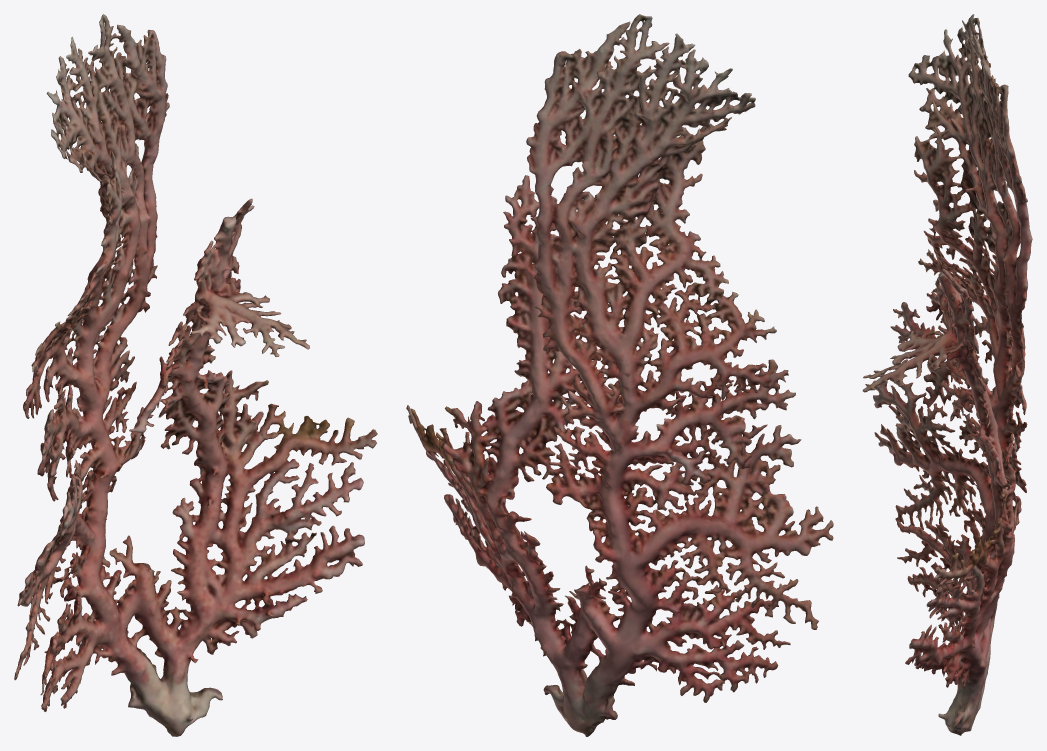
Rendered from stylaster_sanguineus.glb.
The picture shows the model from 3 angles, left to right: view 1: azimuth 30°, elevation 25°; view 2: azimuth 150°, elevation 25°; view 3: azimuth 270°, elevation 25°; orthographic projection. The views are drawn at different scales.
Size of the model in its own units: 0.0949 by 0.1702 by 0.0381.
Materials: 1 (1 with a texture image).
